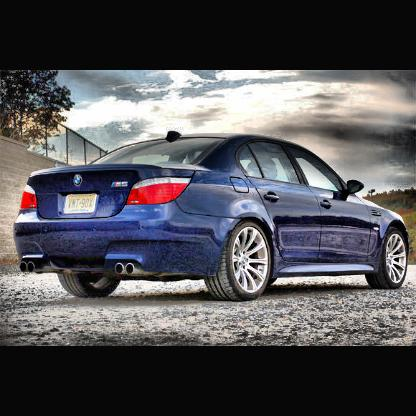BMW M5 Sedan 2010: (14, 132, 410, 302)
